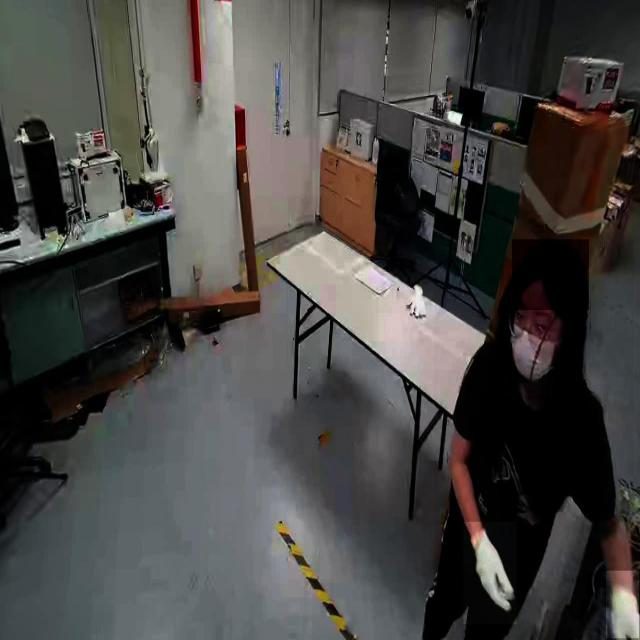face_mask: (503, 313, 560, 395)
hand_glove: (463, 522, 517, 625), (606, 571, 640, 639)
head_nohelmet: (512, 239, 590, 311)
person: (434, 232, 634, 639)
